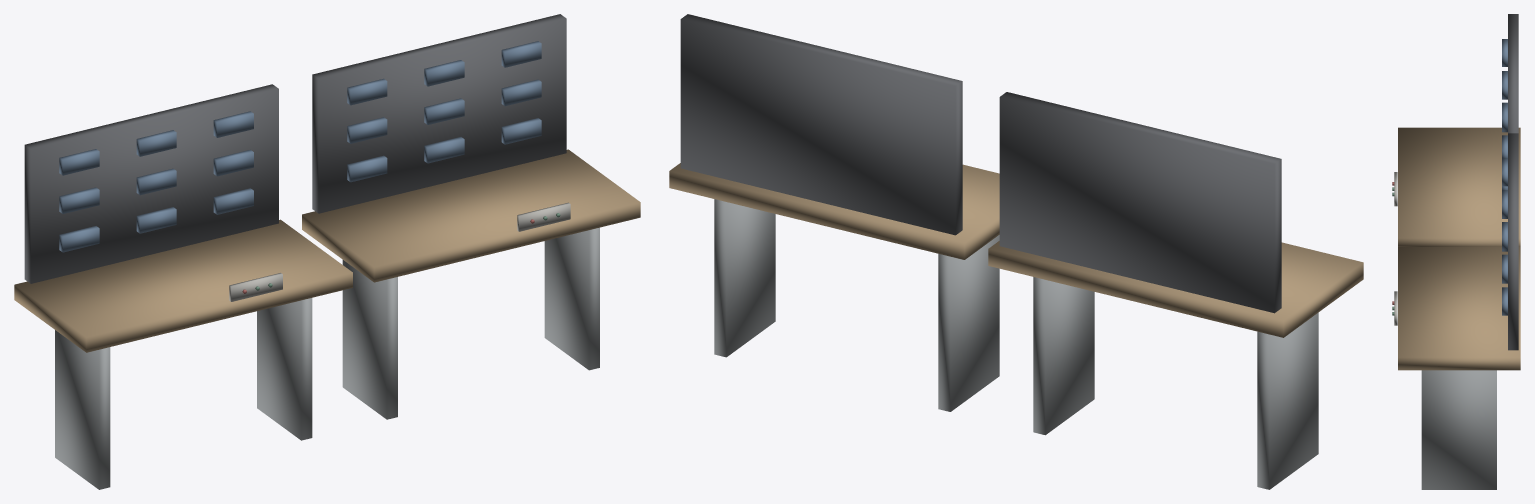
Rendered from electronics_repair_bench__cluster.glb.
The picture shows the model from 3 angles, left to right: view 1: azimuth 30°, elevation 25°; view 2: azimuth 150°, elevation 25°; view 3: azimuth 270°, elevation 25°; orthographic projection. The views are drawn at different scales.
Parts seen in each view (by area): view 1: world; view 2: world; view 3: world.
Part boxes in pixels (x1,y1,x2,y2): world: (14, 14, 640, 489); world: (669, 14, 1363, 489); world: (1392, 14, 1520, 489).
Bounding box in the file's own units: 3.02 × 1.6 × 0.711.
